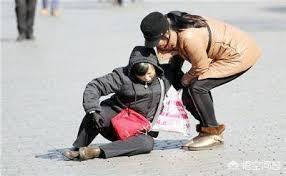Fall-Detected: (53, 42, 173, 165)
